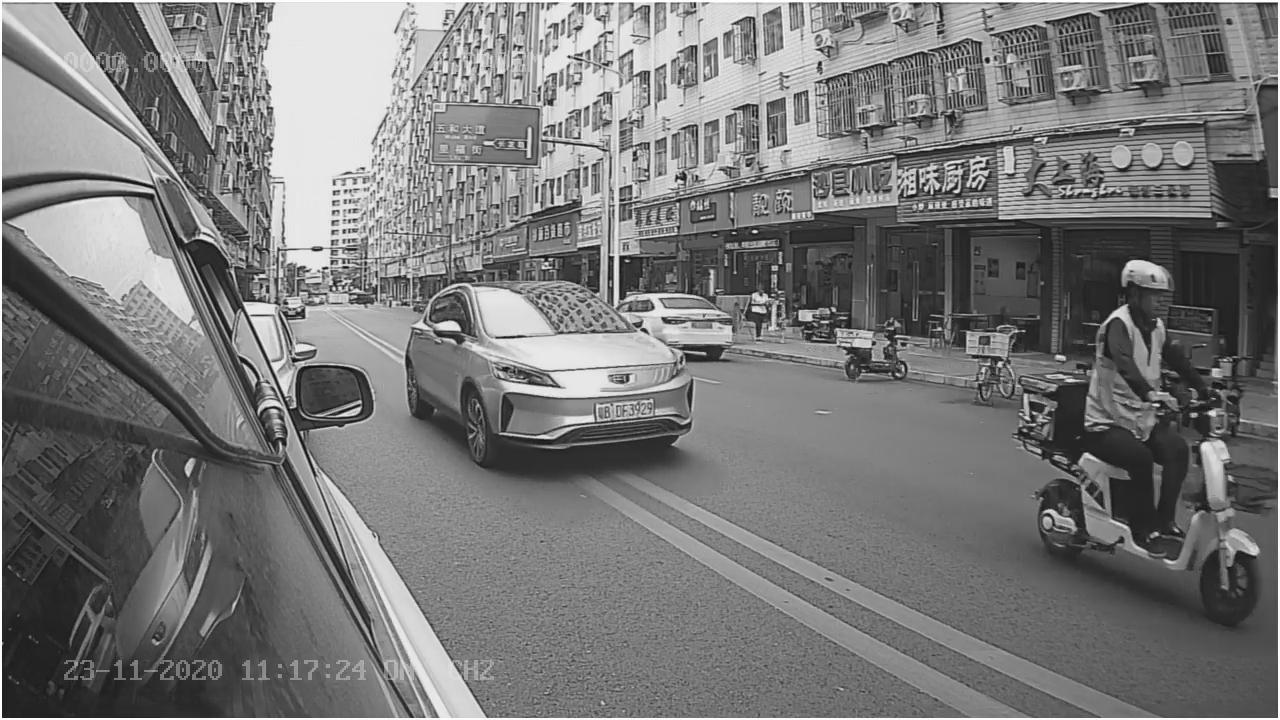person: (1084, 255, 1215, 421)
